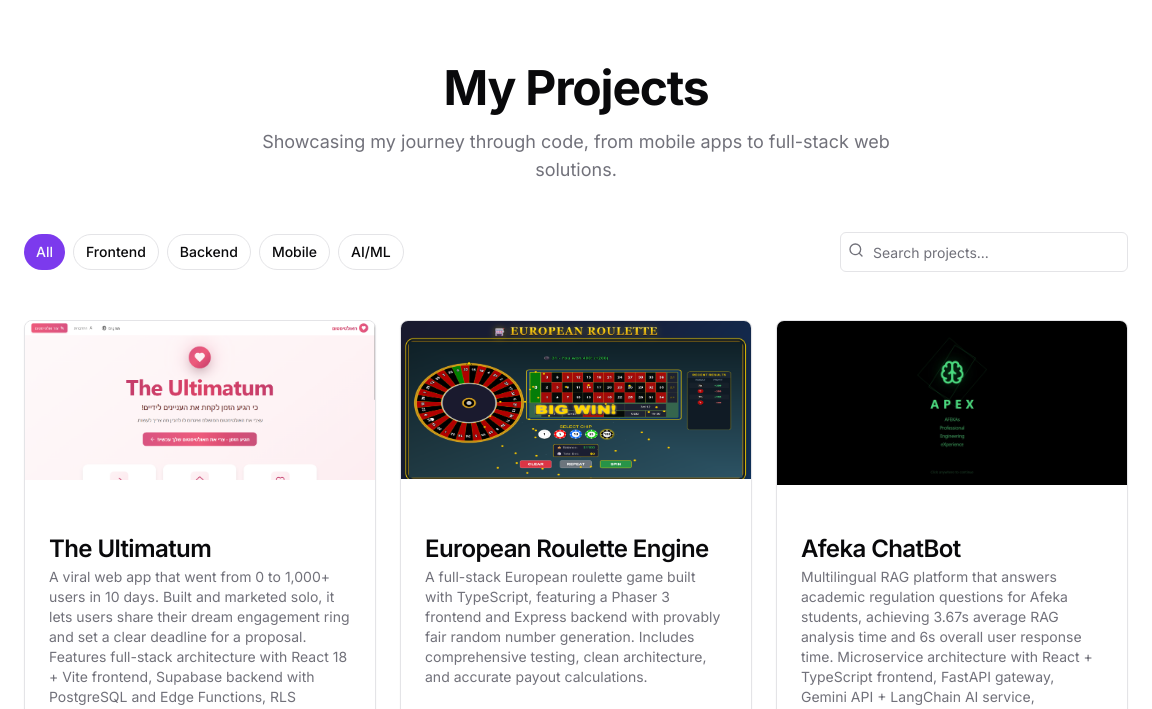
it: Projects › shows "No projects found" when search has no results
In the field with placeholder "Search projects...": (984, 252) [840,232,1128,272], type "NonExistentProject12345"
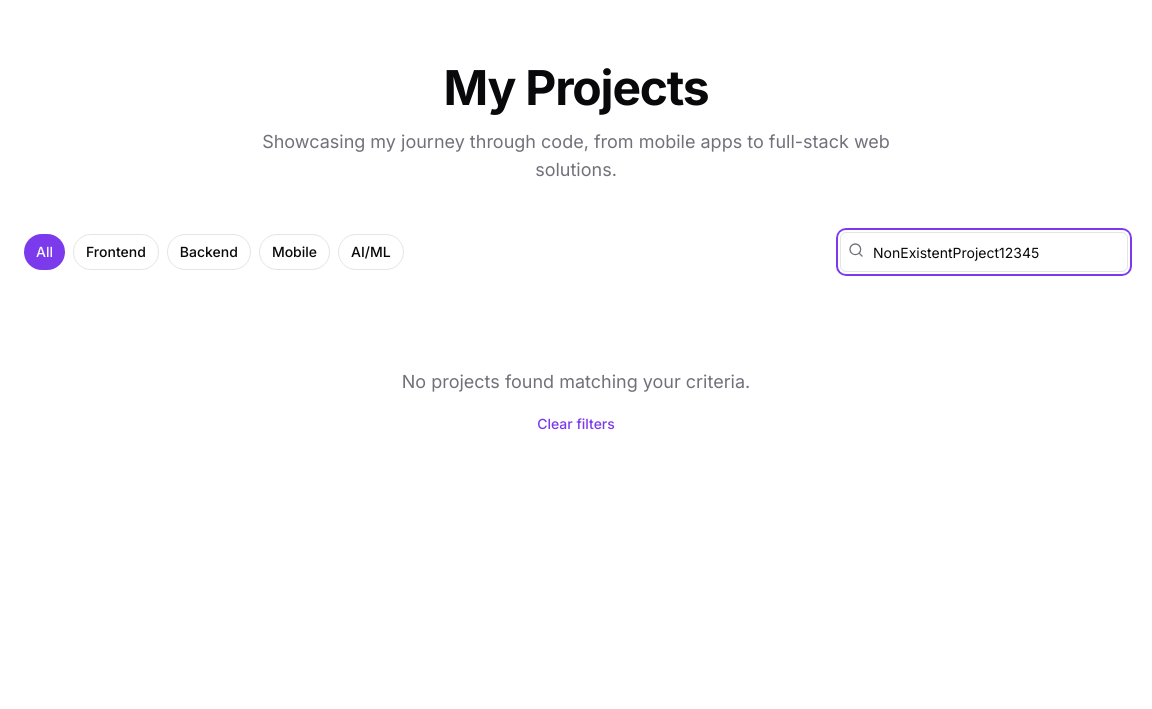
Expected: the text "No projects found matching your criteria." is shown, [402,371,750,392]
Expected: the button "Clear filters" is shown, [521,404,631,444]
